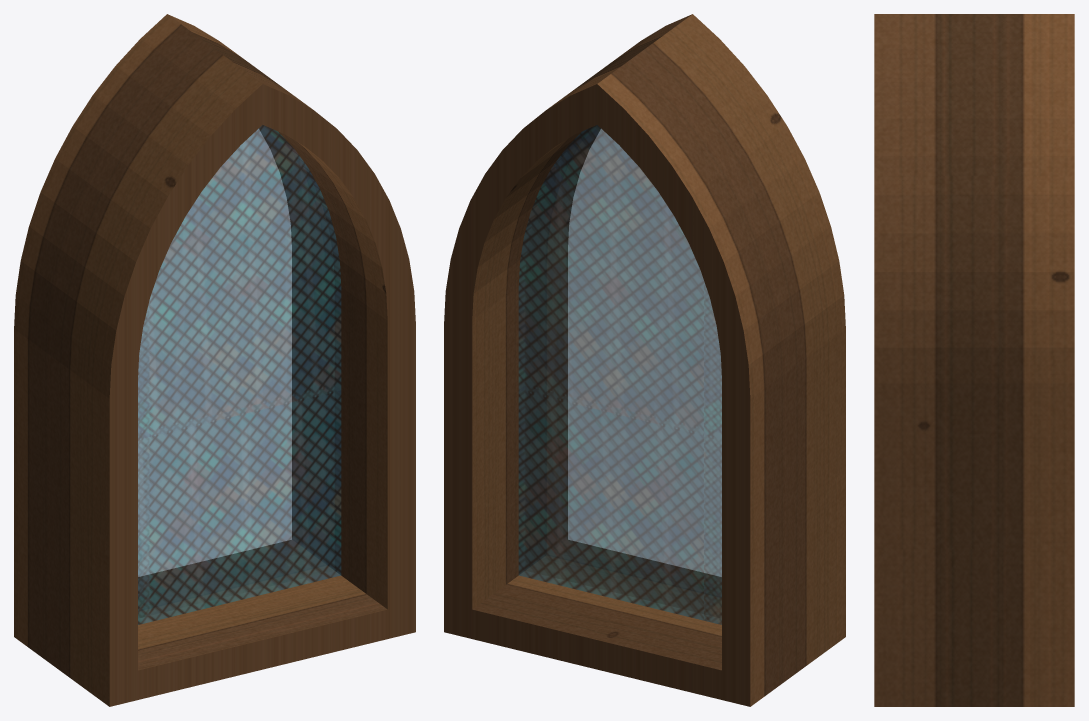
File: CastleWallWindowFramePlain.glb
3 renders of one model, left to right at view 1: azimuth 30°, elevation 25°; view 2: azimuth 150°, elevation 25°; view 3: azimuth 270°, elevation 25°, orthographic. The views are drawn at different scales.
Visible parts, largest first — view 1: castle_wall_window_frame_plain; view 2: castle_wall_window_frame_plain; view 3: castle_wall_window_frame_plain.
Part boxes in pixels (<box>): castle_wall_window_frame_plain: <box>14,14,415,706</box>; castle_wall_window_frame_plain: <box>444,14,845,706</box>; castle_wall_window_frame_plain: <box>874,14,1074,706</box>.
Size of the model in its own units: 0.814 by 1.49 by 0.44.
Materials: 2 (2 with a texture image).
